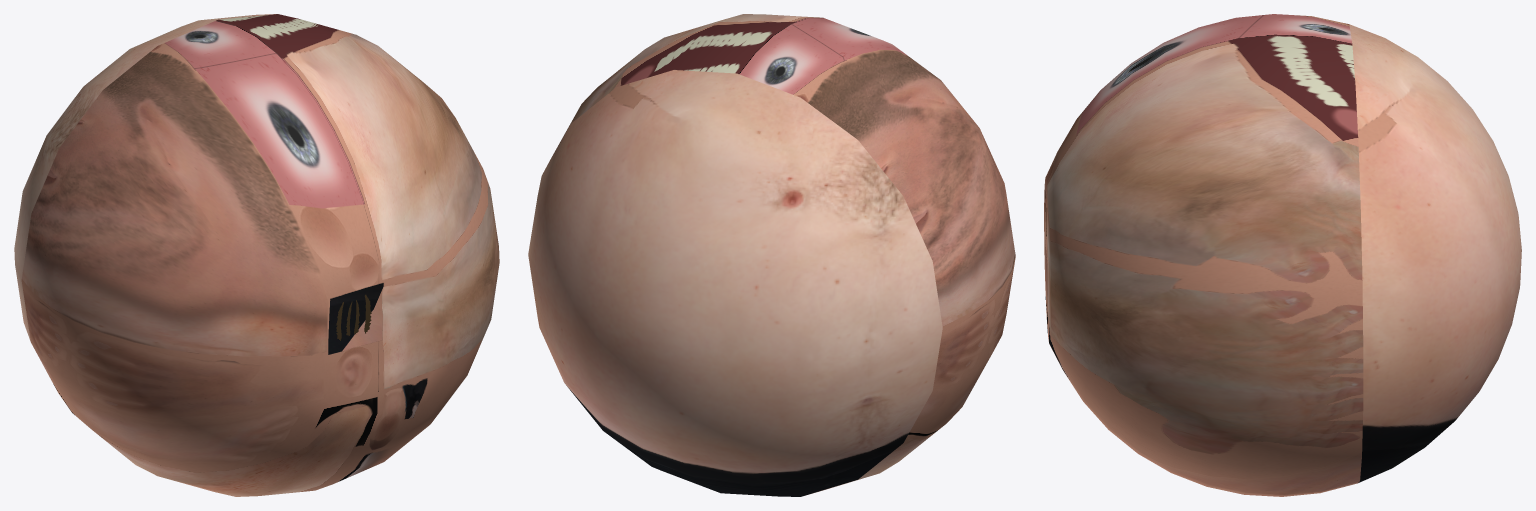
File: eye.fbx
The picture shows the model from 3 angles, left to right: view 1: azimuth 30°, elevation 25°; view 2: azimuth 150°, elevation 25°; view 3: azimuth 270°, elevation 25°; orthographic projection.
Visible parts, largest first — view 1: eyeball; view 2: eyeball; view 3: eyeball.
Part boxes in pixels (x1=…): eyeball: x1=14, y1=14, x2=499, y2=496; eyeball: x1=528, y1=14, x2=1015, y2=496; eyeball: x1=1044, y1=14, x2=1521, y2=496.
Size of the model in its own units: 3.42 by 3.41 by 3.35.
Materials: 1 (1 with a texture image).
